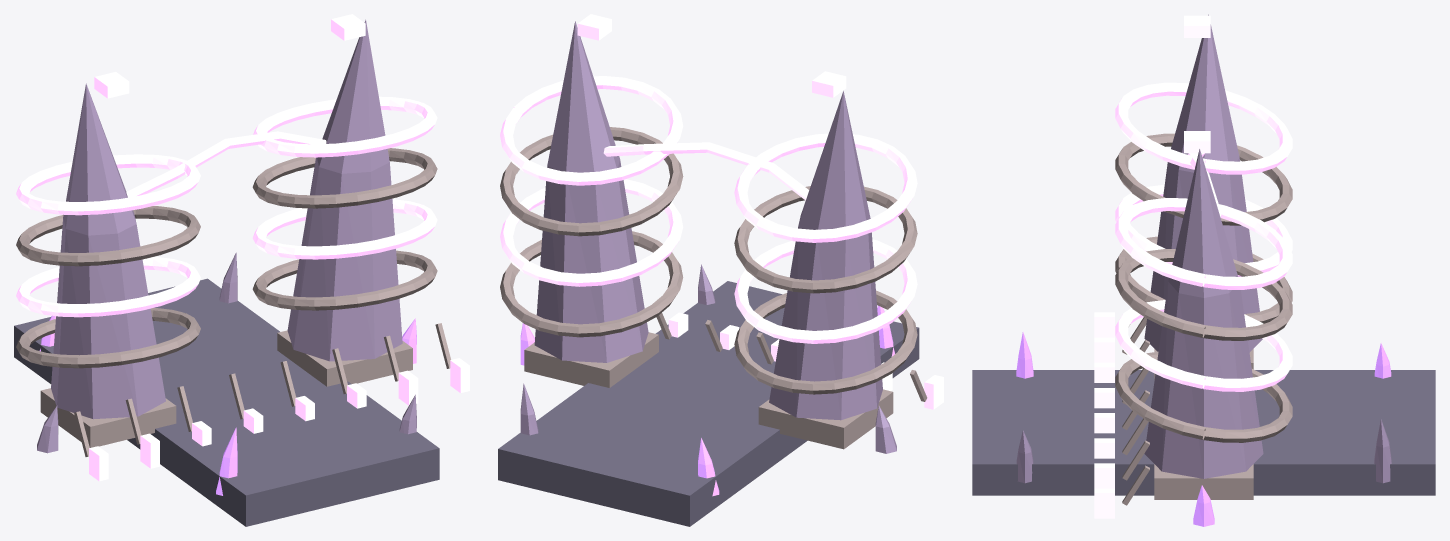
The model's file is nebula-resonators.glb.
3 renders of one model, left to right at view 1: azimuth 30°, elevation 25°; view 2: azimuth 150°, elevation 25°; view 3: azimuth 270°, elevation 25°, orthographic.
Parts seen in each view (by area): view 1: Nebula paired resonance chambers; view 2: Nebula paired resonance chambers; view 3: Nebula paired resonance chambers.
Boxes of the visible parts, x1,y1,x2,y2 form: Nebula paired resonance chambers: [14, 14, 469, 526]; Nebula paired resonance chambers: [498, 14, 943, 526]; Nebula paired resonance chambers: [972, 14, 1435, 526].
Bounding box in the file's own units: 5.56 × 4.94 × 5.6.
